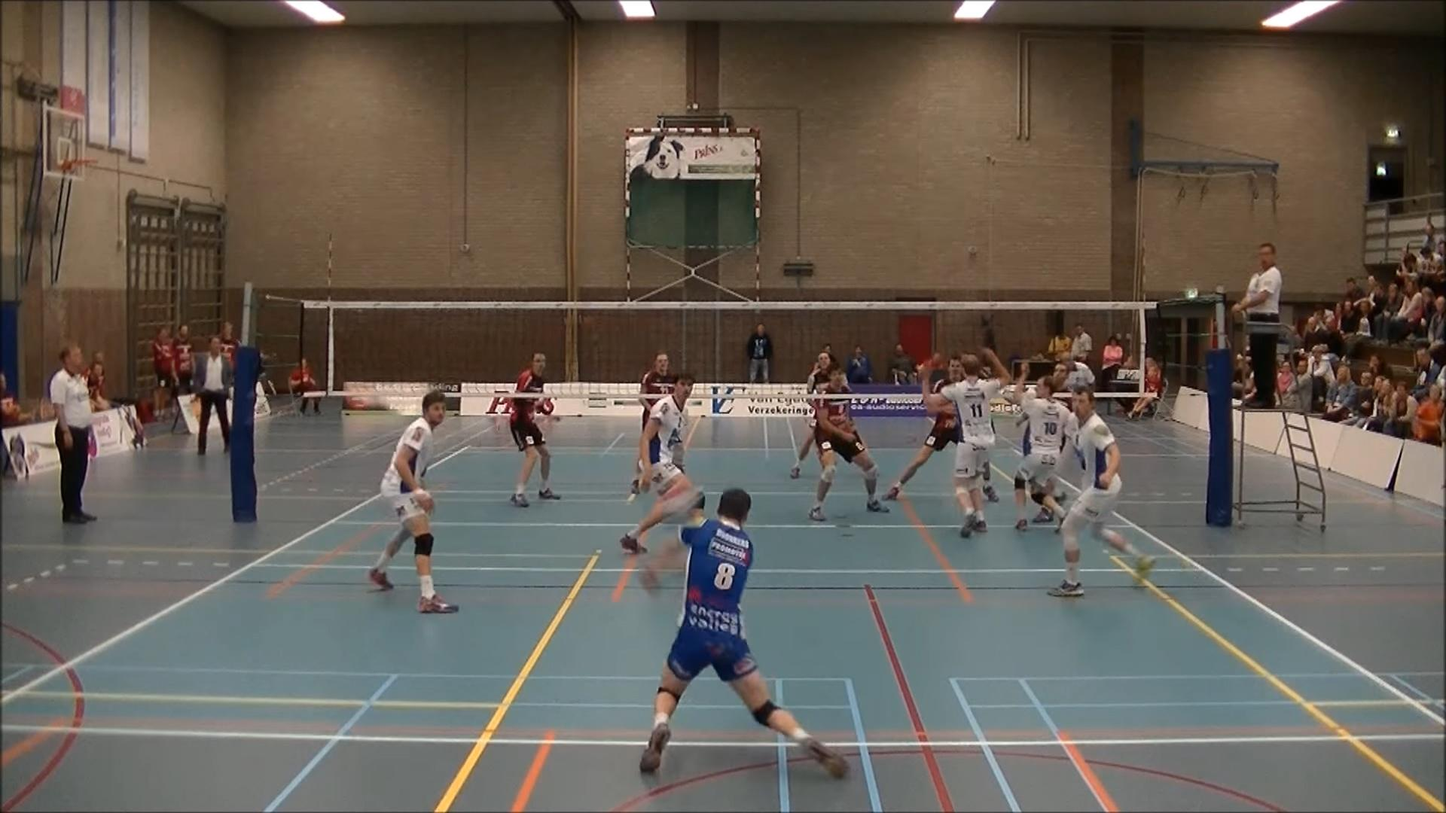Player: (637, 487, 848, 779), (1049, 388, 1154, 597), (369, 391, 456, 613), (925, 349, 1008, 537), (620, 373, 698, 553), (1007, 372, 1077, 530), (809, 398, 888, 521), (509, 352, 560, 507), (883, 404, 957, 499), (639, 352, 676, 431), (789, 411, 815, 478)
